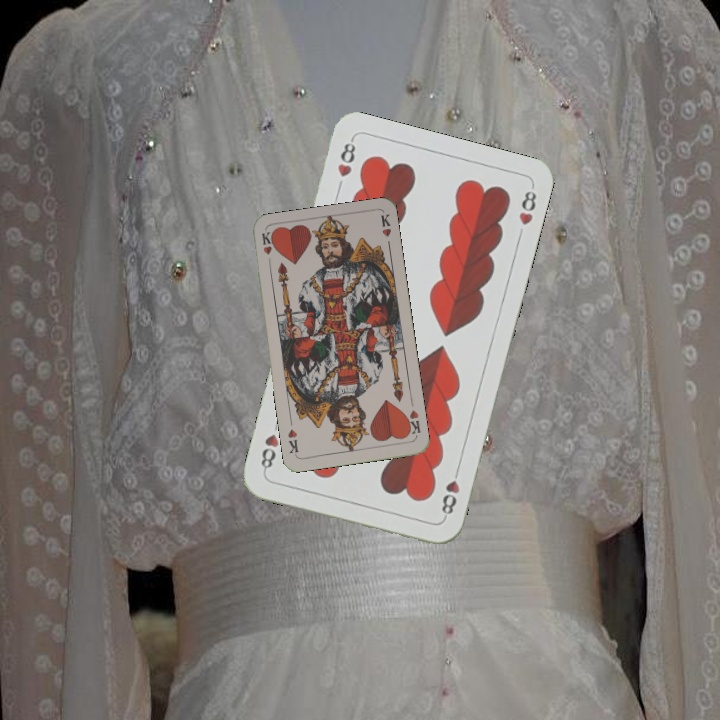H8: (437, 463, 462, 521), (333, 135, 358, 179)
HK: (258, 228, 275, 269), (402, 406, 423, 439)
